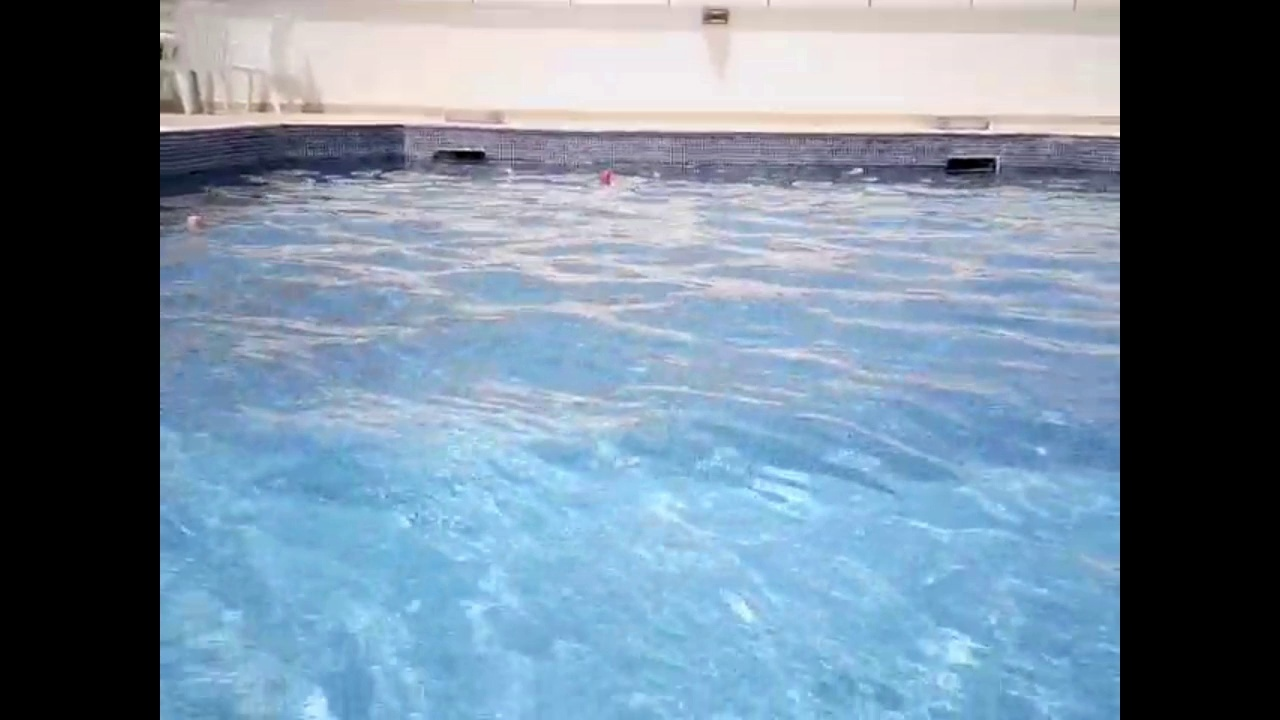debris: (835, 163, 869, 182), (181, 210, 206, 235), (594, 166, 618, 190)
